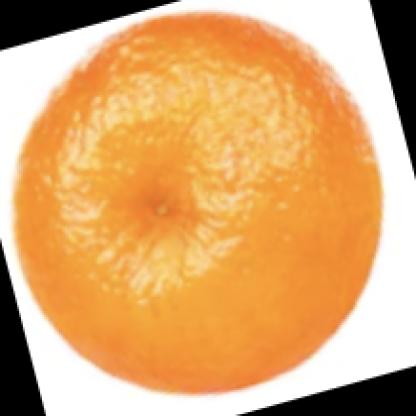fresh: (13, 15, 384, 398)
